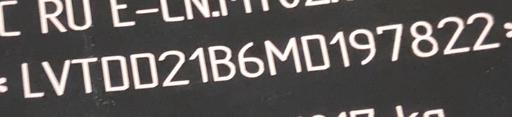letter: (262, 37, 302, 78), (468, 9, 502, 55), (296, 33, 332, 74), (436, 12, 470, 55), (155, 49, 191, 88), (39, 58, 73, 99), (126, 50, 160, 91), (406, 18, 440, 58), (66, 57, 100, 94), (376, 22, 406, 63), (234, 41, 266, 78), (205, 44, 237, 81), (99, 54, 129, 93), (348, 27, 378, 66), (16, 58, 44, 98), (328, 29, 352, 72), (184, 46, 210, 85)
